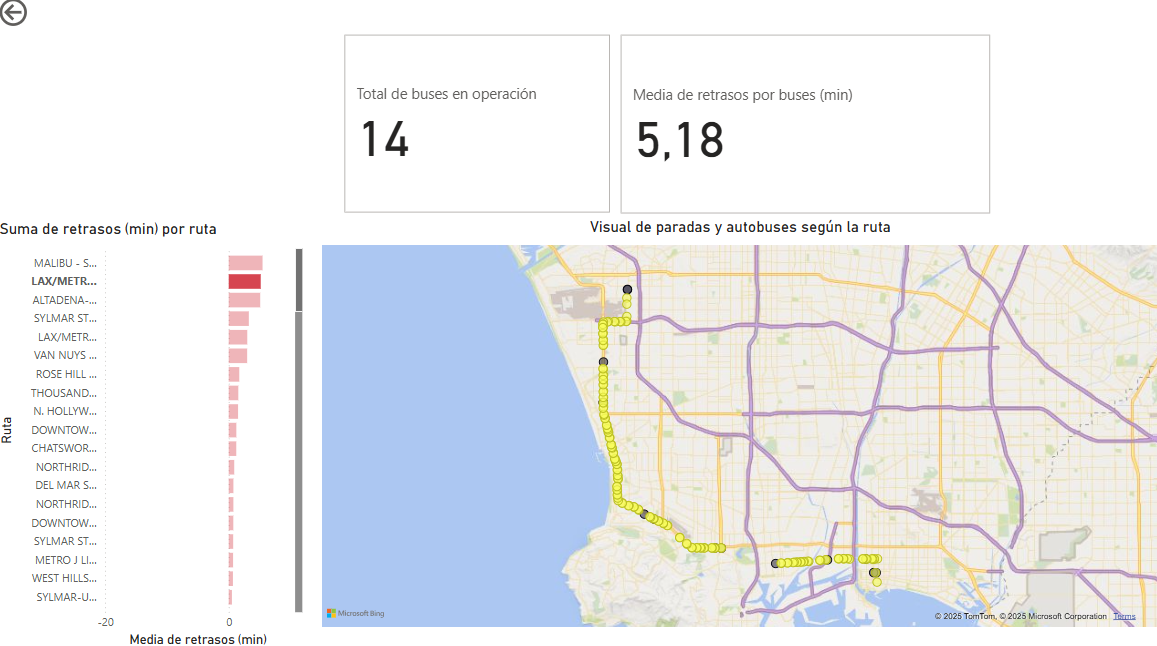

The dashboard page shown, as its layout file describes it:
{"tool":"powerbi","page":{"name":"Autobuses y paradas por ruta","canvas":[1280,720],"ordinal":0},"visuals":[{"type":"map","title":"Visual de paradas y autobuses según la ruta","fields":{"Y":["anexo.latitude"],"X":["anexo.longitude"],"Series":["anexo.Personalizado"]},"box":[353.2,245.1,926.7,452.8],"z":0},{"type":"barChart","title":"Suma de retrasos (min) por ruta","fields":{"Category":["routes.route_desc"],"Y":["Avg(Datos vehículos.time_diff_seconds)"]},"box":[0,246.3,342.1,473.9],"z":1000},{"type":"actionButton","box":[0,0,100,40],"z":2000},{"type":"cardVisual","fields":{"Data":["vehicles.Total Buses"]},"box":[378.2,39.8,301,205.3],"z":3000},{"type":"cardVisual","fields":{"Data":["Avg(vehicles.time_diff_seconds)"]},"box":[680.4,39.8,415.5,206.5],"z":4000}]}

Visuals, with their boxes in screenshot pixels (x1, y1, x2, y2), scaled from the page's 1280x720 canvas onto the 1157x646 screenshot:
"Visual de paradas y autobuses según la ruta" map: rect(319, 220, 1156, 626)
"Suma de retrasos (min) por ruta" barChart: rect(0, 221, 309, 645)
actionButton: rect(0, 0, 90, 36)
cardVisual - vehicles.Total Buses: rect(342, 36, 614, 220)
cardVisual - Avg(vehicles.time_diff_seconds): rect(615, 36, 991, 221)
